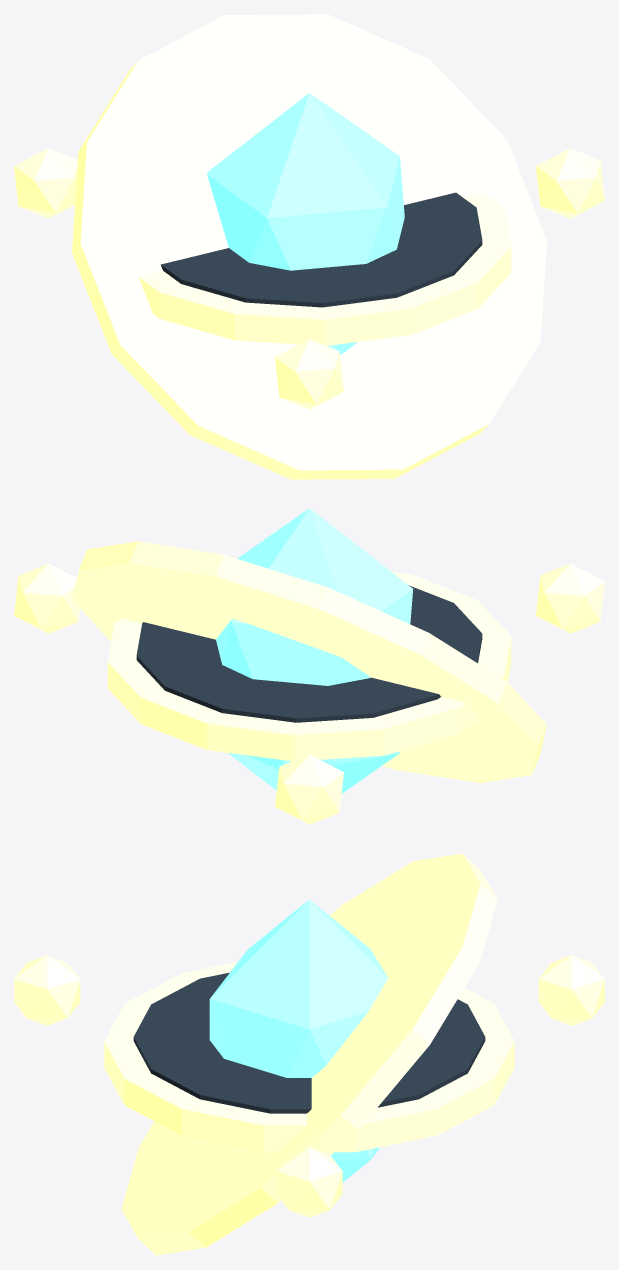
Rendered from Relic.glb.
3 views of the same model, one above another, from view 1: azimuth 30°, elevation 25°; view 2: azimuth 150°, elevation 25°; view 3: azimuth 270°, elevation 25° (orthographic).
Visible parts, largest first — view 1: Gold.010, Glow.005, Gold.009, Dark.041, Gold.011, Gold.013, Gold.012; view 2: Gold.010, Gold.009, Glow.005, Dark.041, Gold.012, Gold.013, Gold.011; view 3: Gold.010, Glow.005, Gold.009, Dark.041, Gold.011, Gold.012, Gold.013.
Boxes of the visible parts, x1,y1,x2,y2 form: Gold.010: (72, 14, 546, 479); Glow.005: (207, 93, 404, 354); Gold.009: (138, 193, 511, 345); Dark.041: (161, 192, 482, 307); Gold.011: (536, 148, 604, 218); Gold.013: (275, 339, 343, 409); Gold.012: (14, 148, 77, 218); Gold.010: (72, 541, 546, 783); Gold.009: (107, 571, 511, 761); Glow.005: (216, 508, 413, 793); Dark.041: (136, 585, 482, 722); Gold.012: (275, 754, 343, 824); Gold.013: (536, 563, 604, 633); Gold.011: (14, 563, 79, 633); Gold.010: (121, 853, 497, 1255); Glow.005: (209, 899, 388, 1182); Gold.009: (104, 962, 514, 1152); Dark.041: (133, 972, 485, 1113); Gold.011: (276, 1147, 342, 1217); Gold.012: (538, 955, 604, 1025); Gold.013: (14, 955, 80, 1025).
Size of the model in its own units: 1.2 by 0.7707 by 1.21.
